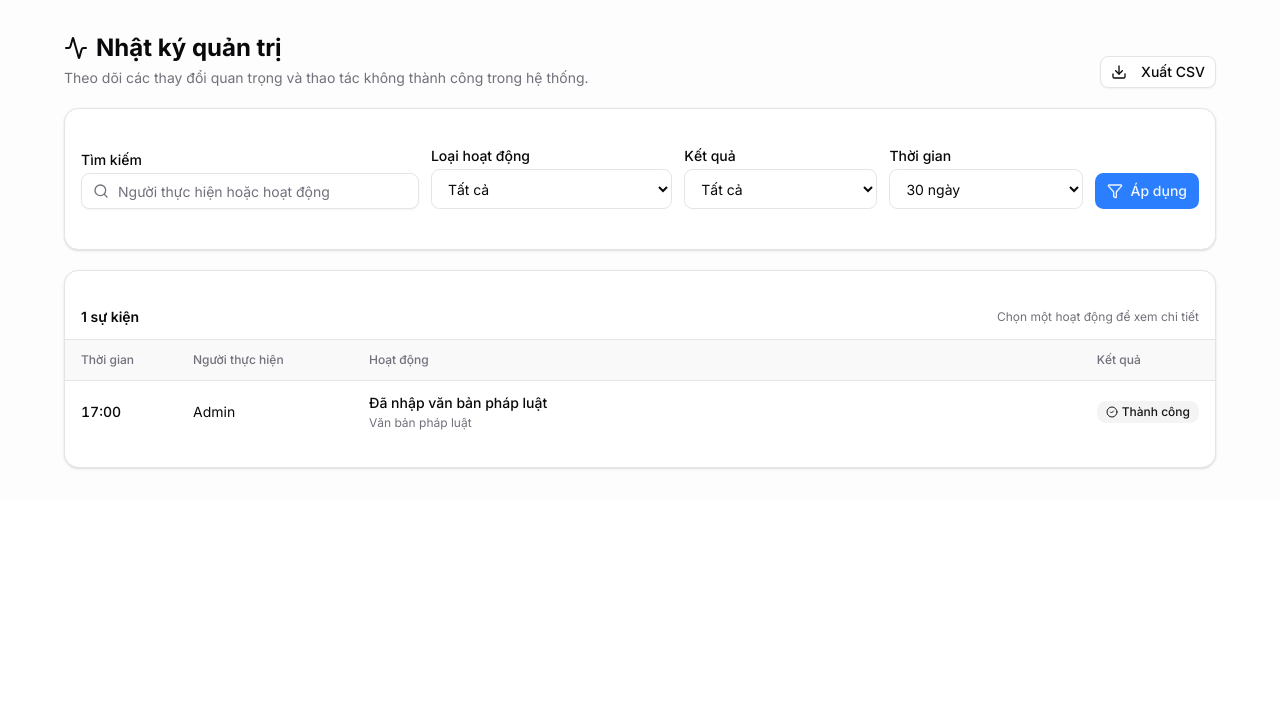
Scenario: AdminActivityPage › rejects meaningless access reasons and renders structured detail in a side dialog
Click the button "Đã nhập văn bản pháp luật Văn bản pháp luật".
click(458, 402)  # box top-left (369, 393), bottom-right (1065, 431)
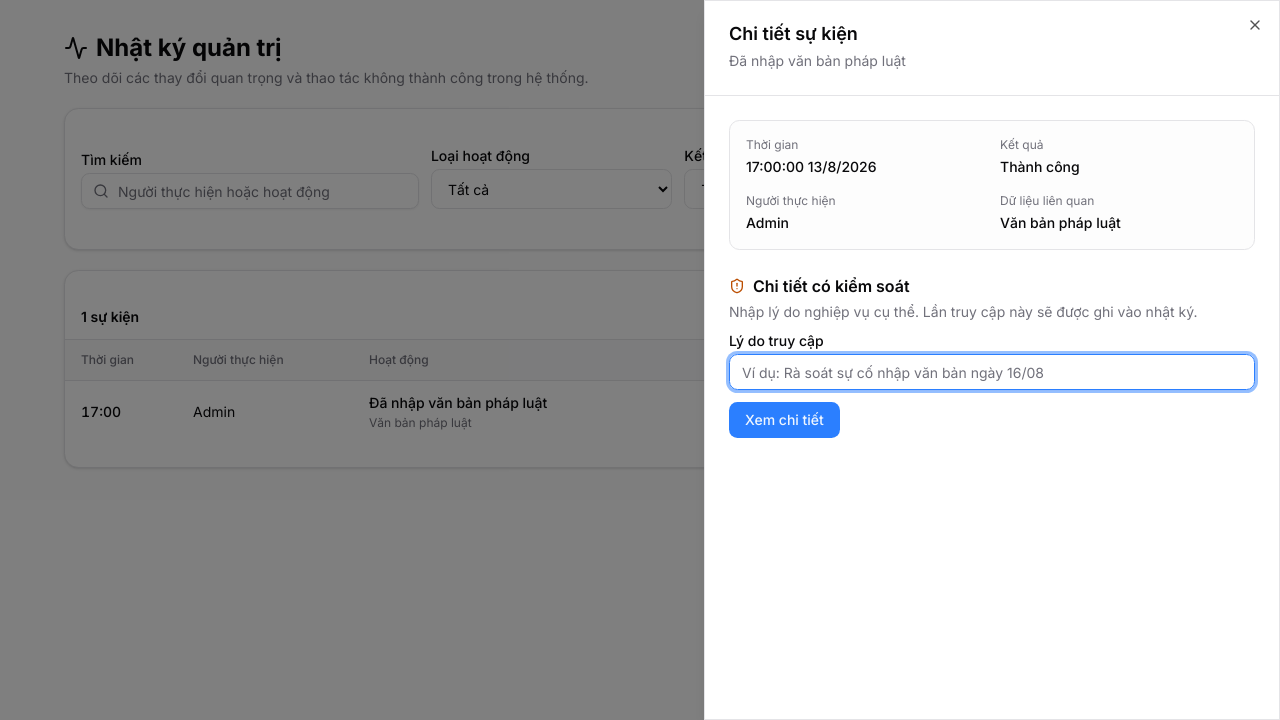
Expected: the heading "Chi tiết sự kiện" is shown, top-left (729, 23), bottom-right (858, 44)
Type "dddddddddddddddd" into the field labelled "Lý do truy cập".
click(992, 372); type("dddddddddddddddd")  # box top-left (729, 354), bottom-right (1255, 390)
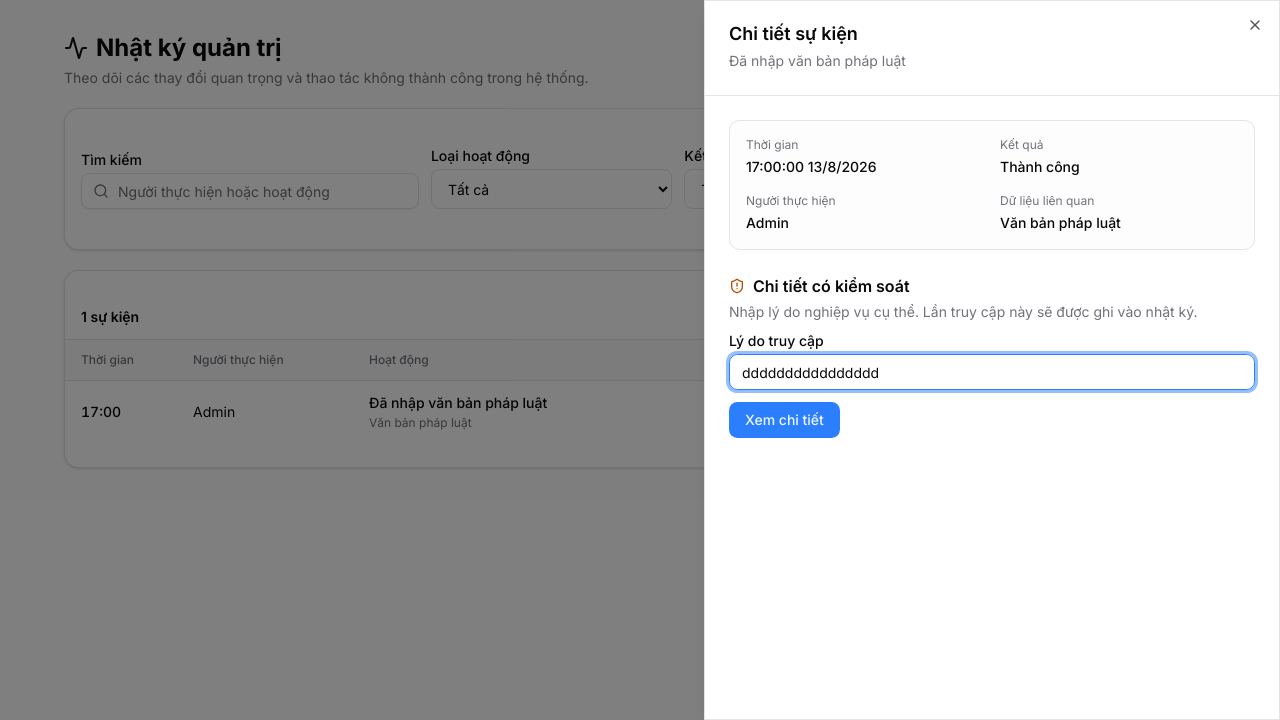
Click the button "Xem chi tiết".
click(784, 420)  # box top-left (729, 402), bottom-right (840, 438)
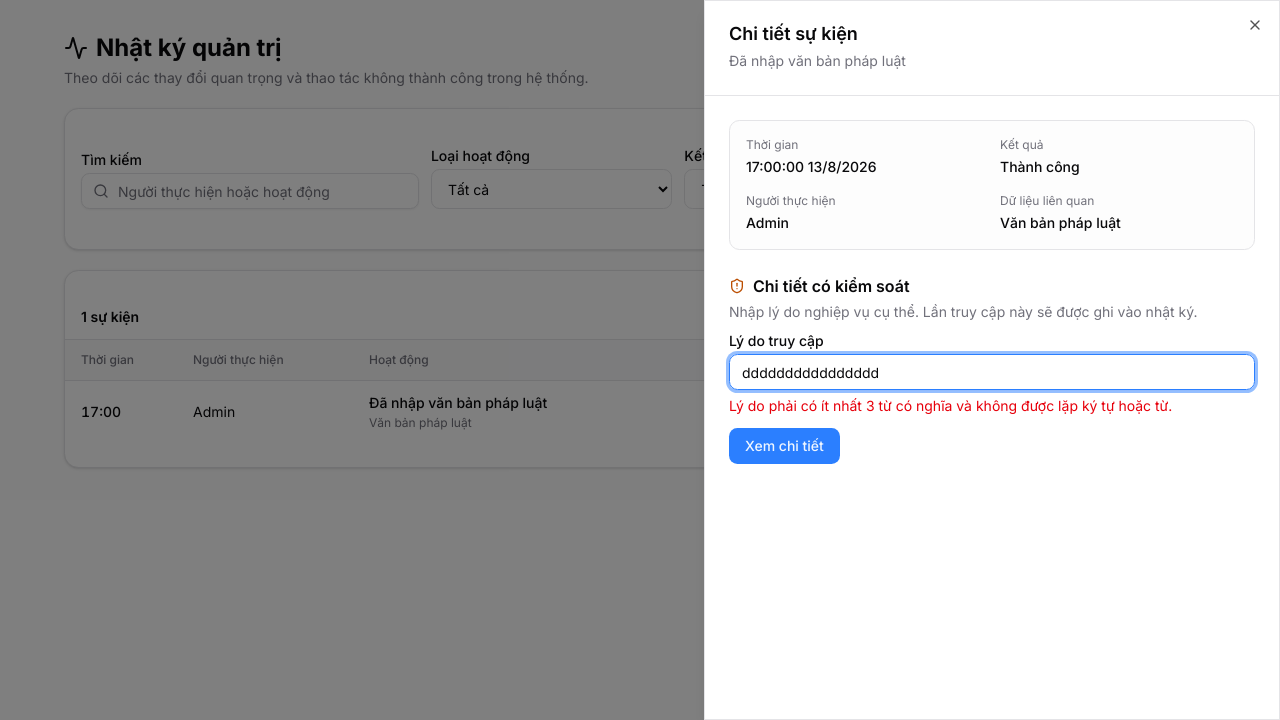
Expected: the text "Lý do phải có ít nhất 3 từ có nghĩa và không được lặp ký tự hoặc từ." is shown, top-left (729, 397), bottom-right (1172, 414)
Replace the text in the field labelled "Lý do truy cập" with "Rà soát sự cố nhập dữ liệu" at [992, 372], box top-left (729, 354), bottom-right (1255, 390)
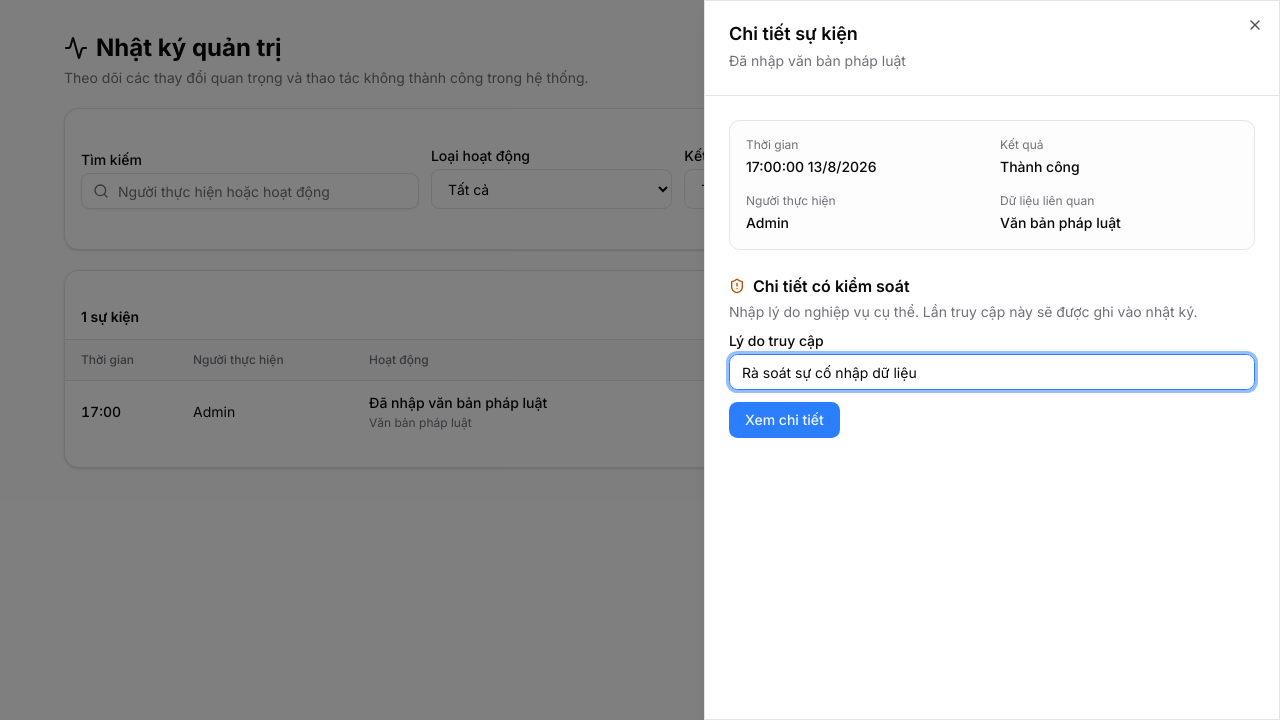
Click the button "Xem chi tiết".
click(784, 420)  # box top-left (729, 402), bottom-right (840, 438)
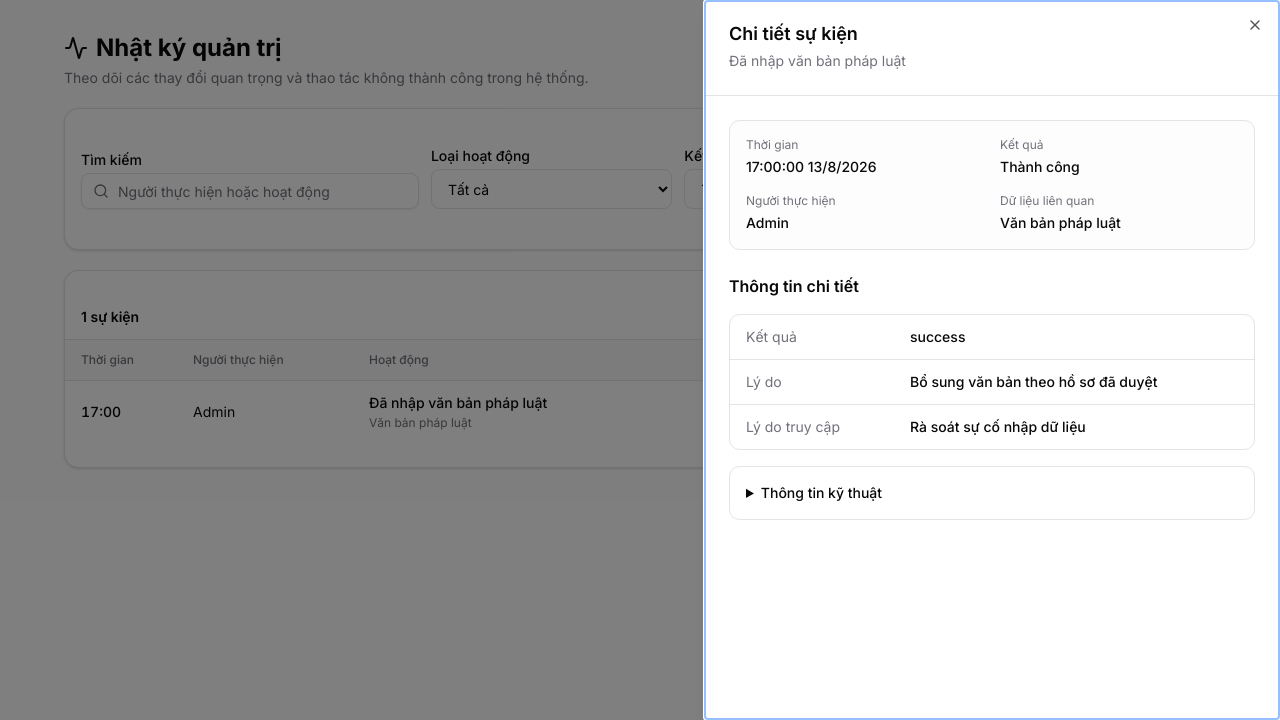
Expected: the text "Bổ sung văn bản theo hồ sơ đã duyệt" is shown, top-left (910, 373), bottom-right (1158, 390)
